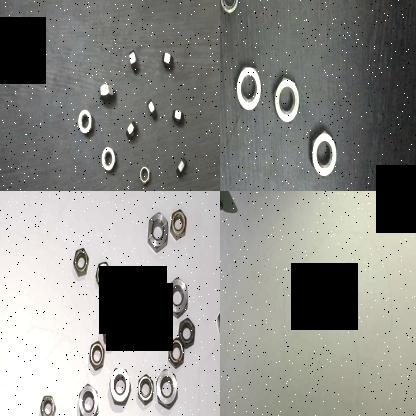NUTS: (264, 72, 300, 128), (307, 124, 339, 178), (233, 58, 261, 118), (107, 361, 133, 407), (162, 274, 188, 318), (127, 276, 152, 320), (144, 210, 170, 252), (100, 292, 119, 348), (154, 366, 178, 407), (74, 379, 100, 416), (175, 313, 196, 351), (166, 331, 186, 367), (135, 372, 155, 408), (167, 206, 188, 240), (93, 259, 113, 290), (36, 390, 59, 416), (71, 245, 89, 278), (74, 106, 93, 136), (96, 76, 114, 106), (86, 338, 104, 368), (126, 40, 140, 76), (98, 145, 116, 171), (220, 0, 240, 22), (122, 118, 138, 144), (174, 154, 188, 182), (144, 95, 158, 121), (159, 46, 174, 70), (138, 162, 150, 188), (169, 104, 183, 126), (215, 304, 220, 335)
